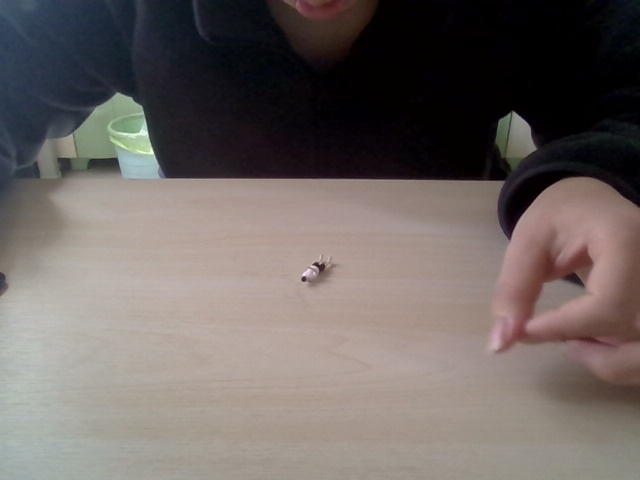fall: (294, 251, 339, 286)
